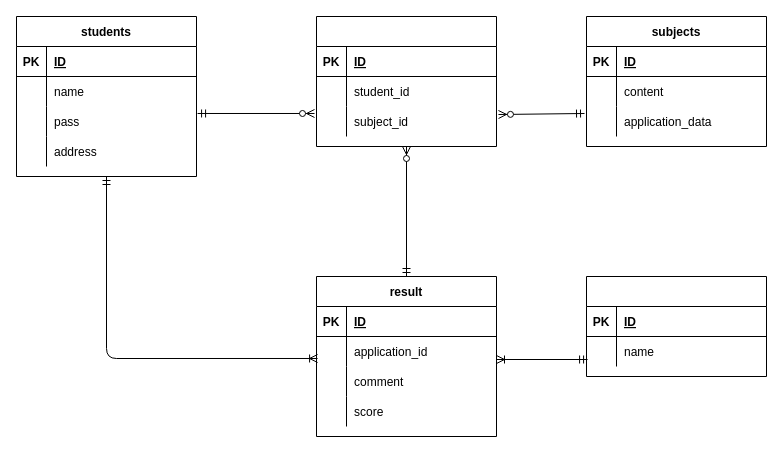
Image size: 783x453. Some labels were removed from this diagram. Here are the shapes that lost their labels. From the top down, the box of each, then its label:
(316, 16, 496, 146): application
(586, 276, 766, 376): teacher
